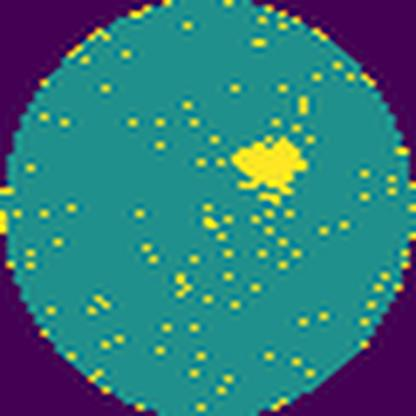Loc: (233, 132, 310, 198)
